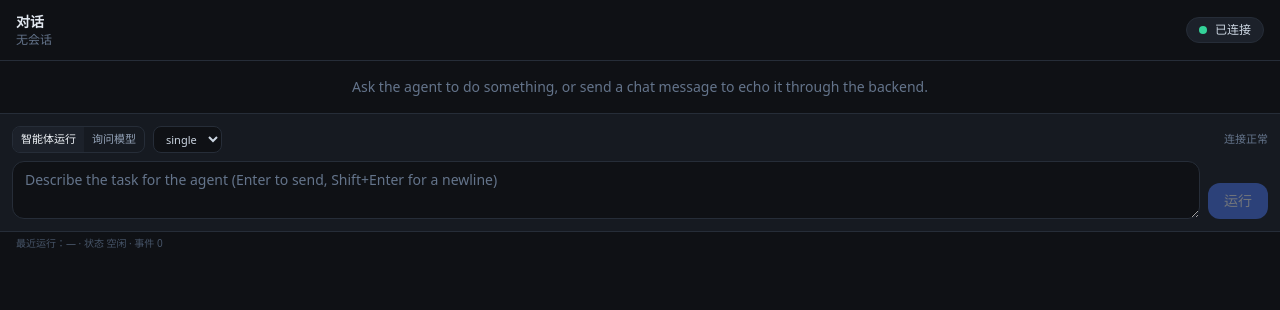
Test: ChatPanel › sends a run frame from the composer
Type "refactor the safety layer" into the text box named "消息". click: (606, 190)
box: [12,161,1200,219]
Then press Enter
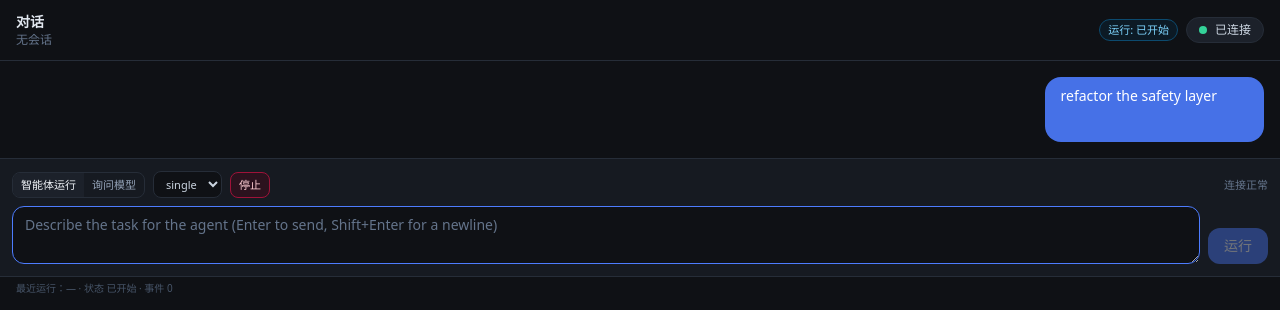
Expected: the list item with test id "message-user" reads "refactor the safety layer", [1060,86,1217,105]
